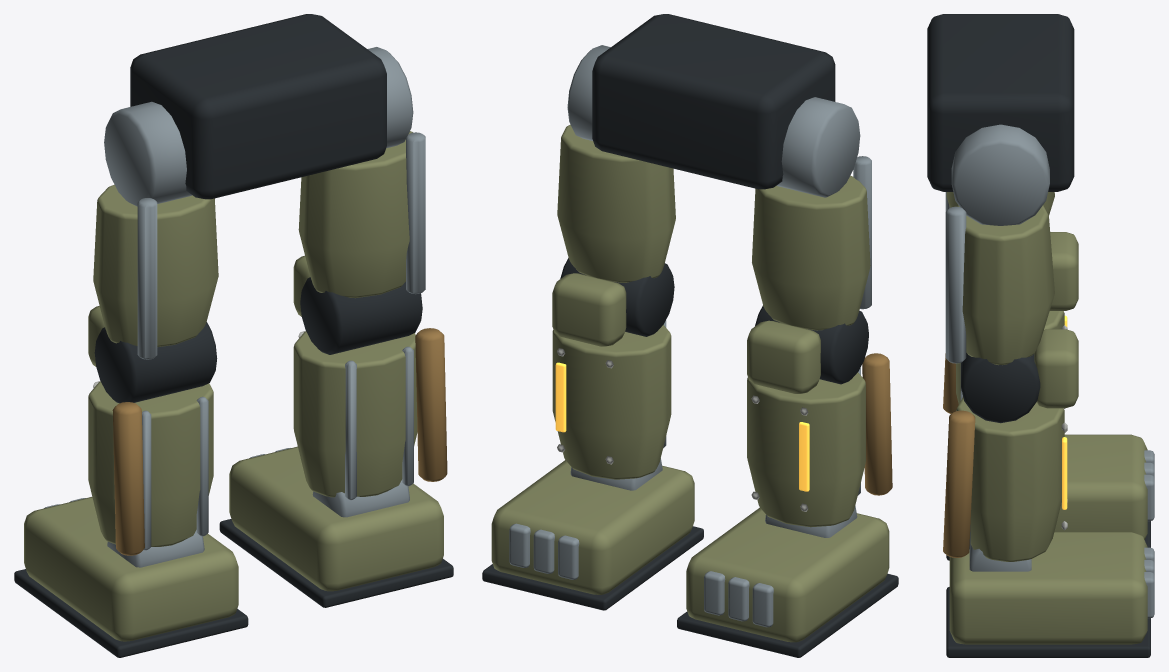
The model's file is legs_05.glb.
The picture shows the model from 3 angles, left to right: view 1: azimuth 30°, elevation 25°; view 2: azimuth 150°, elevation 25°; view 3: azimuth 270°, elevation 25°; orthographic projection. The views are drawn at different scales.
Visible parts, largest first — view 1: RightShin.004_Geometry, LeftShin.004_Geometry, Pelvic carrier.004, LeftThigh.004_Geometry, RightThigh.004_Geometry; view 2: LeftShin.004_Geometry, RightShin.004_Geometry, Pelvic carrier.004, LeftThigh.004_Geometry, RightThigh.004_Geometry; view 3: RightShin.004_Geometry, RightThigh.004_Geometry, Pelvic carrier.004, LeftShin.004_Geometry, LeftThigh.004_Geometry.
Part boxes in pixels (x1,y1,x2,y2): RightShin.004_Geometry: [219, 255, 453, 607]; LeftShin.004_Geometry: [14, 306, 248, 657]; Pelvic carrier.004: [130, 14, 386, 199]; LeftThigh.004_Geometry: [93, 101, 218, 359]; RightThigh.004_Geometry: [298, 47, 425, 298]; LeftShin.004_Geometry: [677, 305, 898, 657]; RightShin.004_Geometry: [482, 258, 703, 610]; Pelvic carrier.004: [592, 14, 835, 189]; LeftThigh.004_Geometry: [752, 97, 871, 330]; RightThigh.004_Geometry: [557, 45, 675, 282]; RightShin.004_Geometry: [943, 329, 1154, 657]; RightThigh.004_Geometry: [945, 124, 1054, 365]; Pelvic carrier.004: [927, 14, 1074, 191]; LeftShin.004_Geometry: [943, 232, 1154, 560]; LeftThigh.004_Geometry: [945, 192, 1054, 215].
Size of the model in its own units: 0.59 by 0.908 by 0.356.
